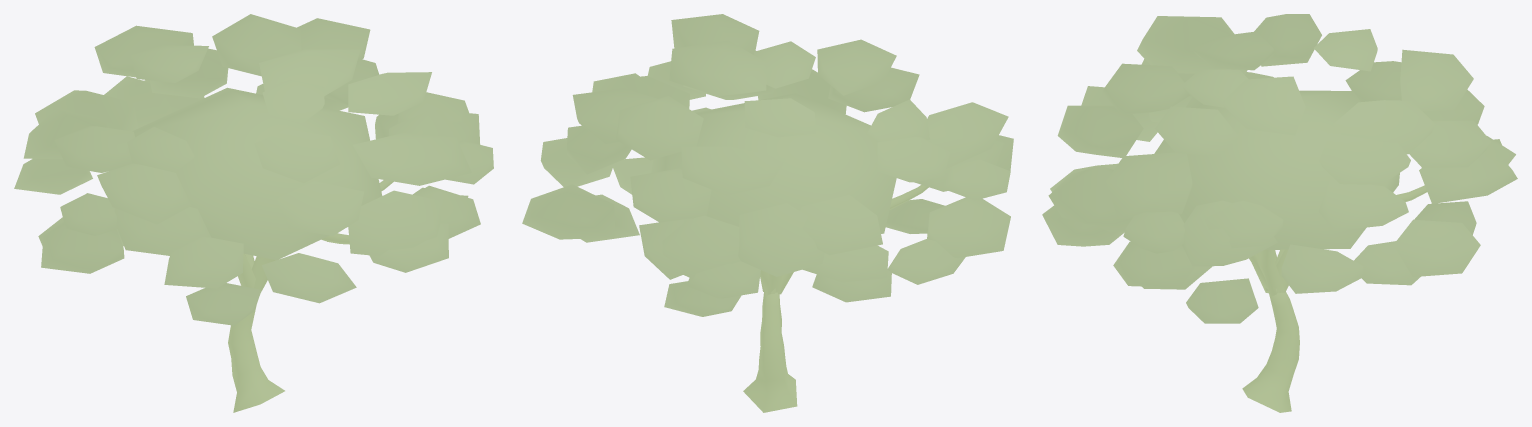
The model's file is Blender_Mesquite_2_Far.glb.
The picture shows the model from 3 angles, left to right: view 1: azimuth 30°, elevation 25°; view 2: azimuth 150°, elevation 25°; view 3: azimuth 270°, elevation 25°; orthographic projection. The views are drawn at different scales.
Parts seen in each view (by area): view 1: Blender_Mesquite_2_Far; view 2: Blender_Mesquite_2_Far; view 3: Blender_Mesquite_2_Far.
Boxes of the visible parts, bbox=[...] form: Blender_Mesquite_2_Far: bbox=[14, 14, 493, 412]; Blender_Mesquite_2_Far: bbox=[522, 14, 1013, 412]; Blender_Mesquite_2_Far: bbox=[1042, 14, 1517, 412].
Bounding box in the file's own units: 8.84 × 6.73 × 8.2.
